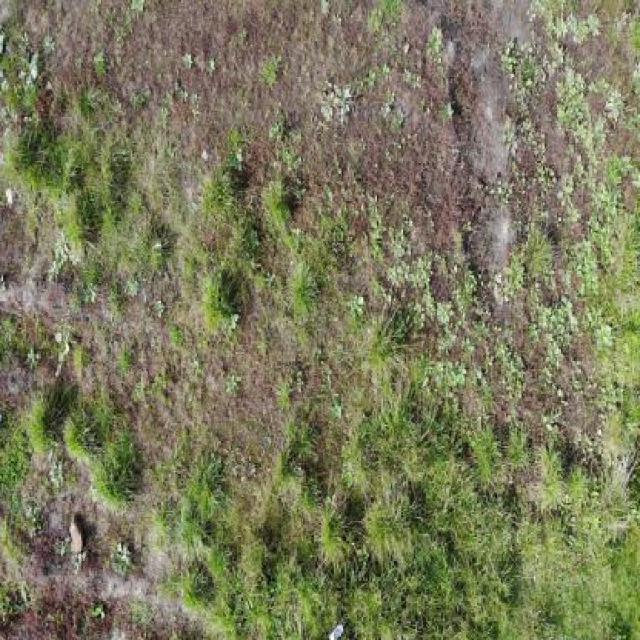Garbage: (327, 621, 344, 640)
